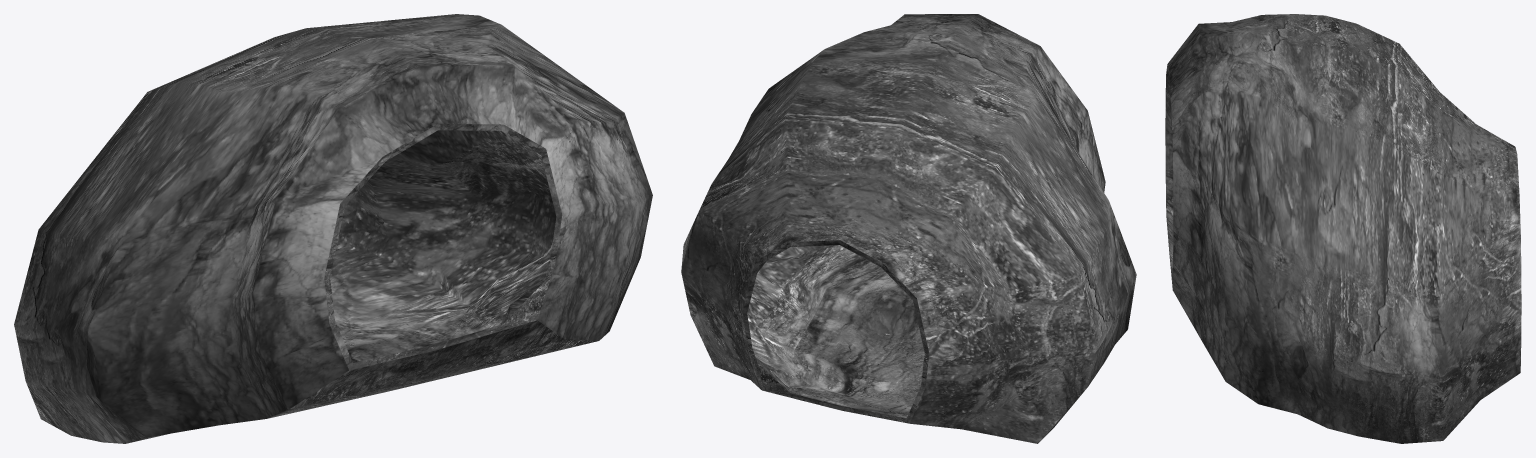
File: caveramp2.fbx
The picture shows the model from 3 angles, left to right: view 1: azimuth 30°, elevation 25°; view 2: azimuth 150°, elevation 25°; view 3: azimuth 270°, elevation 25°; orthographic projection. The views are drawn at different scales.
Visible parts, largest first — view 1: caveramp2; view 2: caveramp2; view 3: caveramp2.
Part boxes in pixels (<box>): caveramp2: <box>14,14,652,443</box>; caveramp2: <box>681,14,1136,443</box>; caveramp2: <box>1165,14,1521,443</box>.
Size of the model in its own units: 2580 by 1811 by 1774.
1 material, 1 textured.
